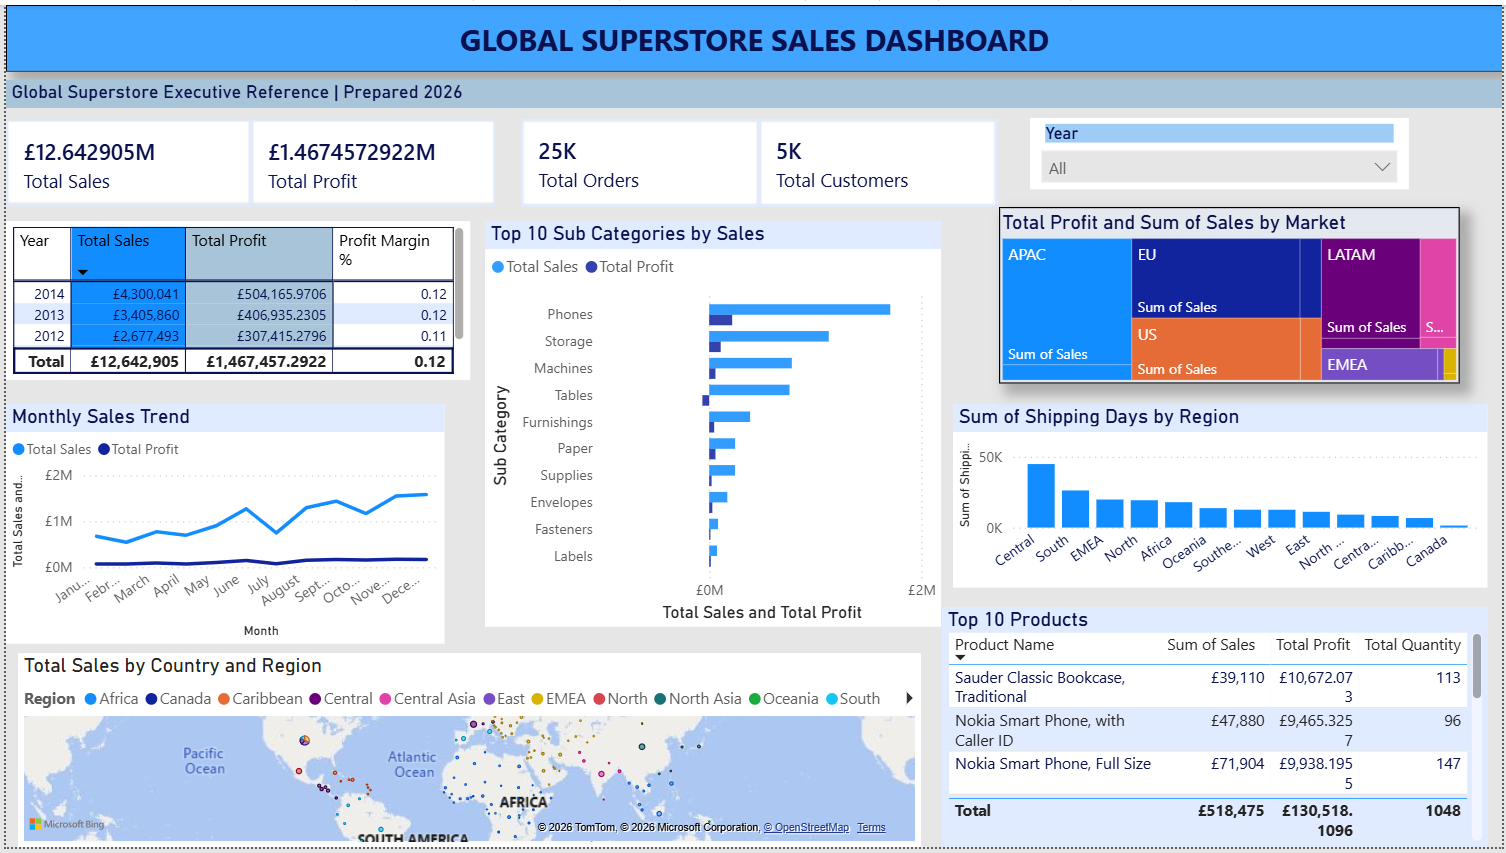

This screenshot's page, from the dashboard's own definition file:
{"tool":"powerbi","page":{"name":"Executive Dashboard","canvas":[1280,720],"ordinal":0},"visuals":[{"type":"shape","box":[0,0,1280,57.1],"z":0},{"type":"textbox","title":"Global Superstore Executive Reference  |  Prepared 2026","box":[0,64.6,1280,24.5],"z":1000},{"type":"lineChart","title":"Monthly Sales Trend","fields":{"Y":["Task_1_Dataset_Superstore.Total Sales","Task_1_Dataset_Superstore.Total Profit"],"Category":["Task_1_Dataset_Superstore.Order Date.Variation.Date Hierarchy.Month"]},"box":[0,341,374.5,204.9],"z":2000},{"type":"clusteredBarChart","title":"Top 10 Sub Categories by Sales","fields":{"Category":["Task_1_Dataset_Superstore.Sub Category"],"Y":["Task_1_Dataset_Superstore.Total Sales","Task_1_Dataset_Superstore.Total Profit"]},"box":[409.9,184.7,390.1,346.7],"z":3000},{"type":"tableEx","title":"Top 10 Products","fields":{"Values":["Task_1_Dataset_Superstore.Product Name","Sum(Task_1_Dataset_Superstore.Sales)","Task_1_Dataset_Superstore.Total Profit","Task_1_Dataset_Superstore.Total Quantity"]},"box":[800,514.6,467.2,205.4],"z":4000},{"type":"clusteredColumnChart","fields":{"Category":["Task_1_Dataset_Superstore.Region"],"Y":["Sum(Task_1_Dataset_Superstore.Shipping Days)"]},"box":[810,341,457,157],"z":5000},{"type":"cardVisual","fields":{"Data":["Task_1_Dataset_Superstore.Total Sales","Task_1_Dataset_Superstore.Total Profit"]},"box":[0,97.4,419.1,74.8],"z":6000},{"type":"cardVisual","fields":{"Data":["Task_1_Dataset_Superstore.Total Orders","Task_1_Dataset_Superstore.Total Customers"]},"box":[440.8,97.2,408.1,75.1],"z":7000},{"type":"tableEx","fields":{"Values":["Task_1_Dataset_Superstore.Order Date.Variation.Date Hierarchy.Year","Task_1_Dataset_Superstore.Total Sales","Task_1_Dataset_Superstore.Total Profit","Task_1_Dataset_Superstore.Profit Margin %"]},"box":[0,185,397.5,135.8],"z":8000},{"type":"treemap","fields":{"Group":["Task_1_Dataset_Superstore.Market","Task_1_Dataset_Superstore.Sub Category"],"Values":["Task_1_Dataset_Superstore.Total Profit","Sum(Task_1_Dataset_Superstore.Sales)"]},"box":[849.3,172.5,394,151.4],"z":9000},{"type":"map","fields":{"Series":["Task_1_Dataset_Superstore.Region"],"Category":["Task_1_Dataset_Superstore.Country"],"Size":["Task_1_Dataset_Superstore.Total Sales"]},"box":[10.6,553.9,772.1,166.1],"z":10000},{"type":"slicer","fields":{"Values":["Task_1_Dataset_Superstore.Year"]},"box":[876,96.8,323.9,61.2],"z":11000}]}

Visuals, with their boxes in screenshot pixels (x1, y1, x2, y2), scaled from the page's 1280x720 canvas onto the 1506x853 screenshot:
shape: x1=0, y1=0, x2=1505, y2=68
"Global Superstore Executive Reference  |  Prepared 2026" textbox: x1=0, y1=77, x2=1505, y2=106
"Monthly Sales Trend" lineChart: x1=0, y1=404, x2=441, y2=647
"Top 10 Sub Categories by Sales" clusteredBarChart: x1=482, y1=219, x2=941, y2=630
"Top 10 Products" tableEx: x1=941, y1=610, x2=1491, y2=852
clusteredColumnChart - Task_1_Dataset_Superstore.Region x Sum(Task_1_Dataset_Superstore.Shipping Days): x1=953, y1=404, x2=1491, y2=590
cardVisual - Task_1_Dataset_Superstore.Total Sales x Task_1_Dataset_Superstore.Total Profit: x1=0, y1=115, x2=493, y2=204
cardVisual - Task_1_Dataset_Superstore.Total Orders x Task_1_Dataset_Superstore.Total Customers: x1=519, y1=115, x2=999, y2=204
tableEx - Task_1_Dataset_Superstore.Order Date.Variation.Date Hierarchy.Year x Task_1_Dataset_Superstore.Total Sales: x1=0, y1=219, x2=468, y2=380
treemap - Task_1_Dataset_Superstore.Market x Task_1_Dataset_Superstore.Sub Category: x1=999, y1=204, x2=1463, y2=384
map - Task_1_Dataset_Superstore.Region x Task_1_Dataset_Superstore.Country: x1=12, y1=656, x2=921, y2=852
slicer - Task_1_Dataset_Superstore.Year: x1=1031, y1=115, x2=1412, y2=187
